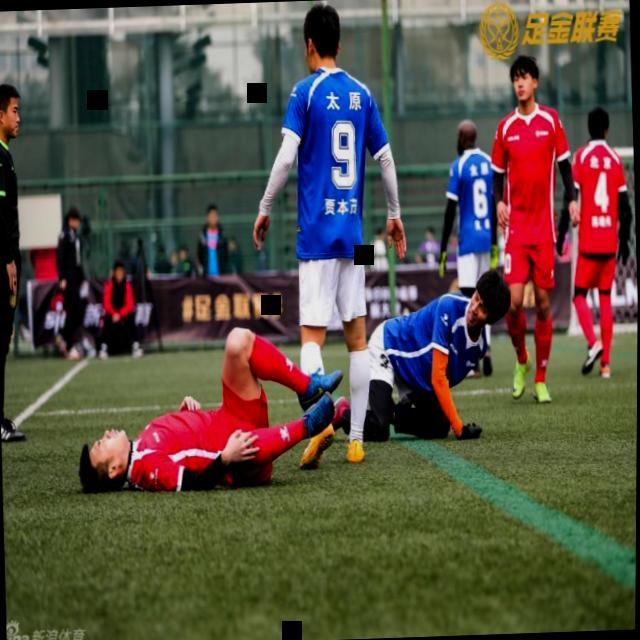Fall-Detected: (335, 258, 517, 452)
